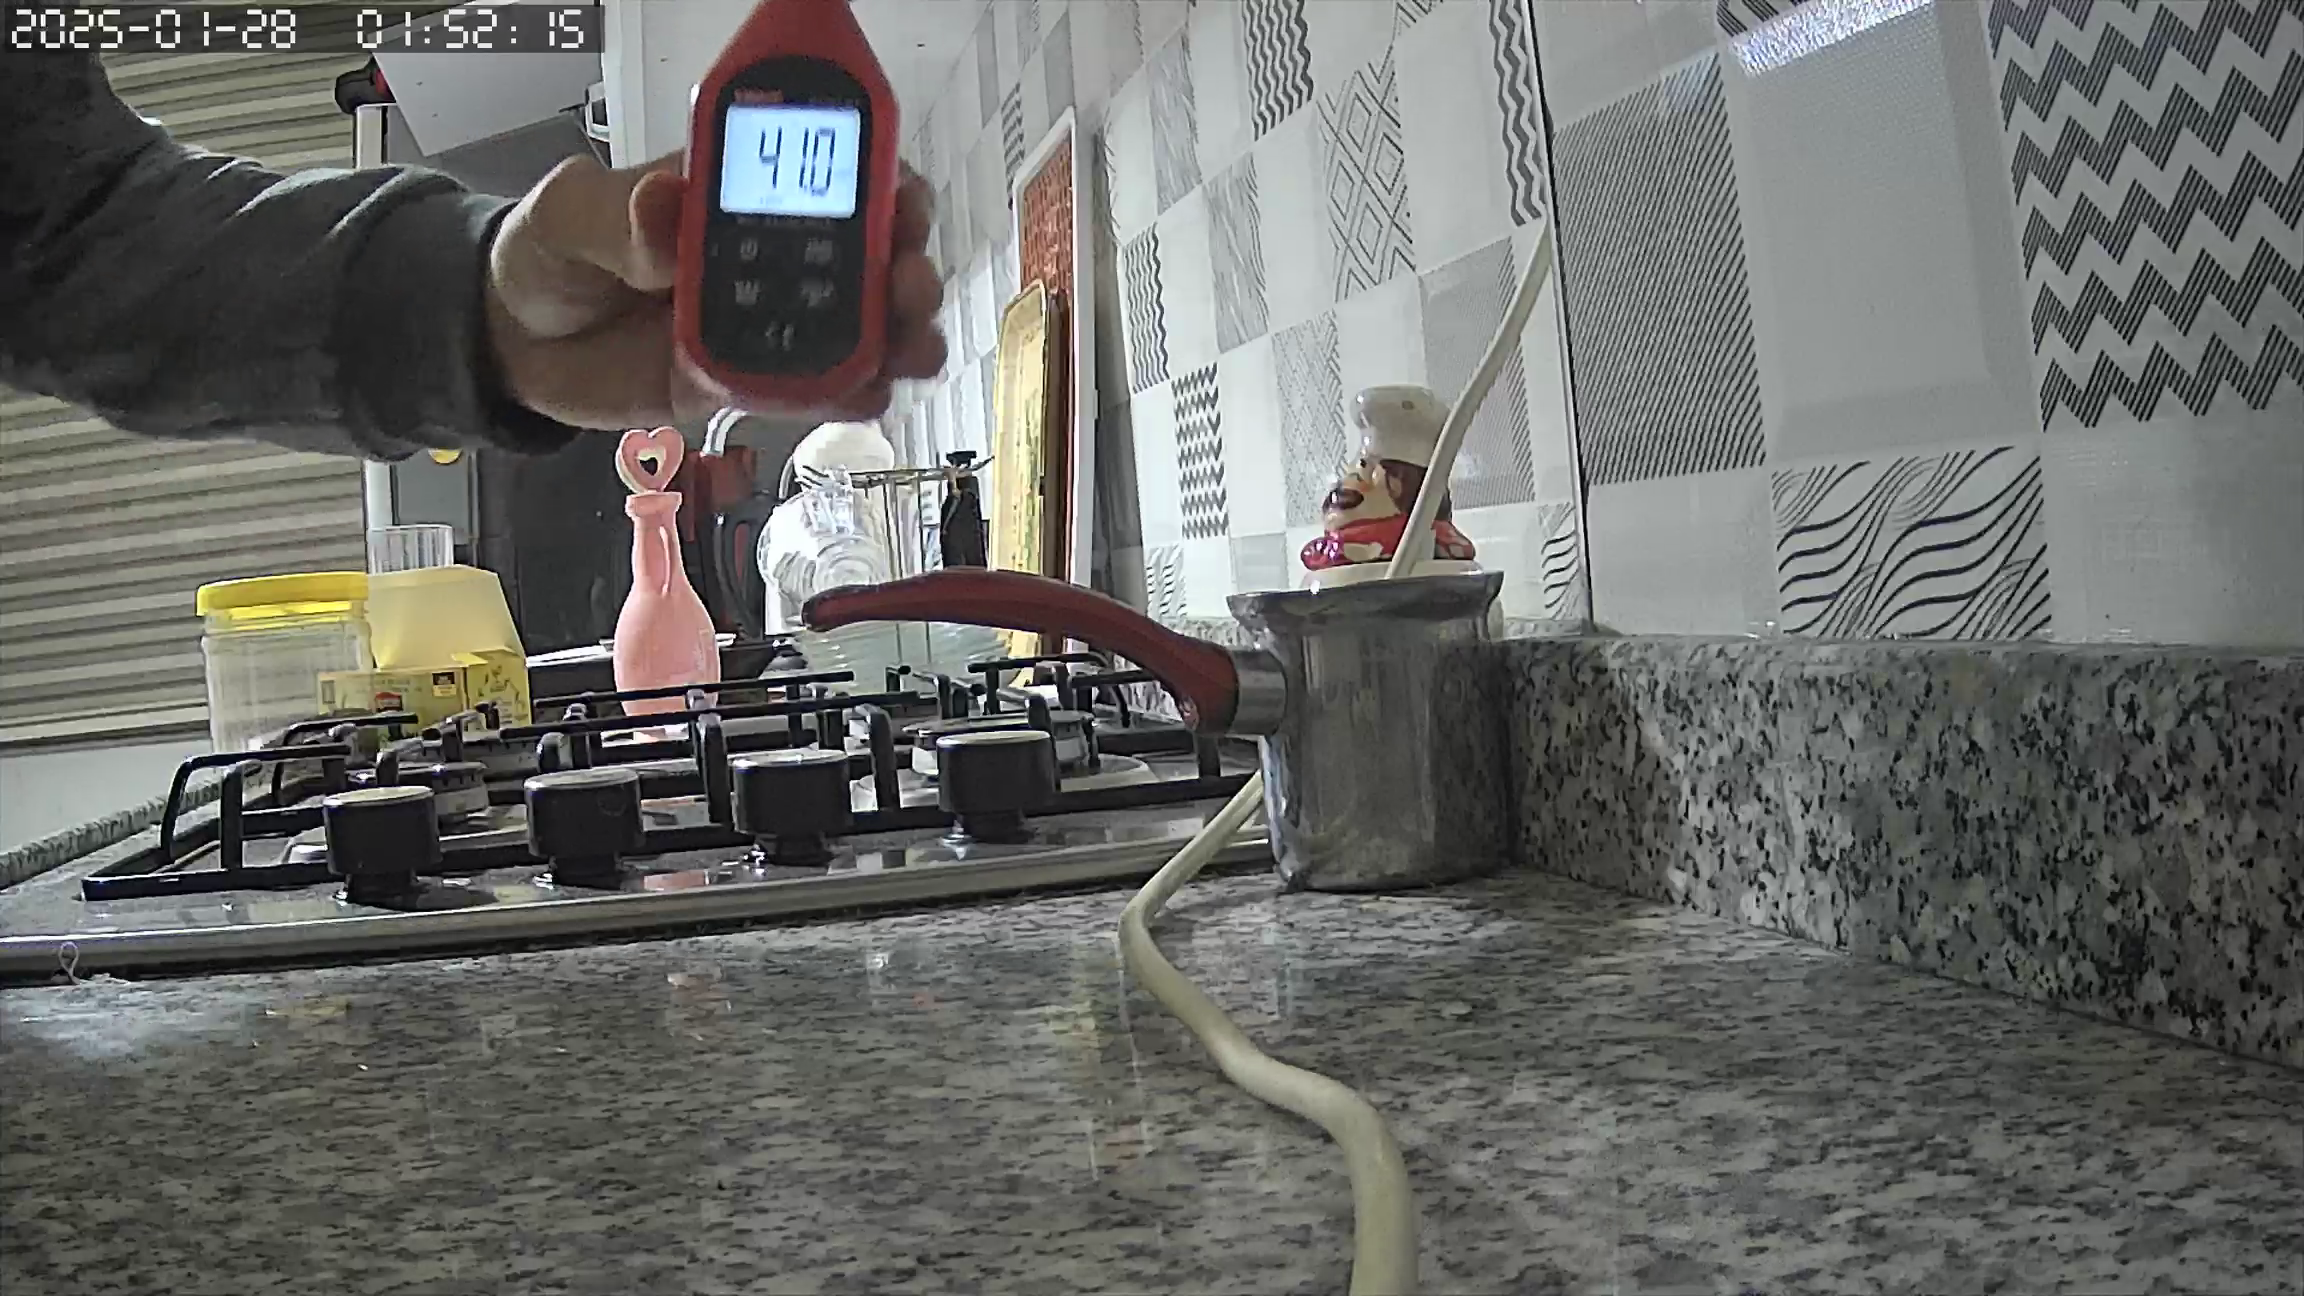screen: (718, 106, 862, 220)
